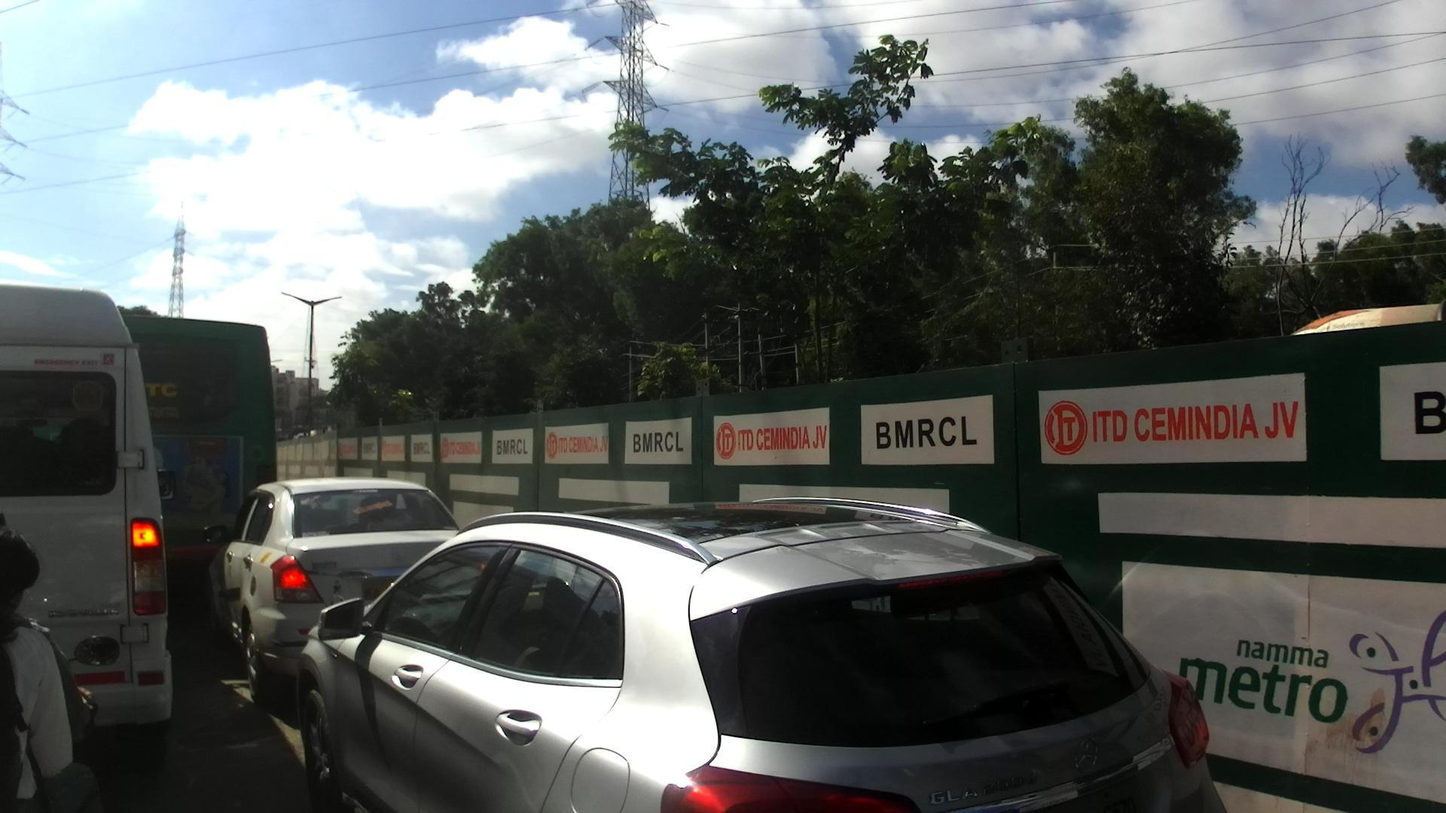streetlight: (280, 291, 316, 309), (310, 296, 343, 309), (272, 358, 284, 365)
